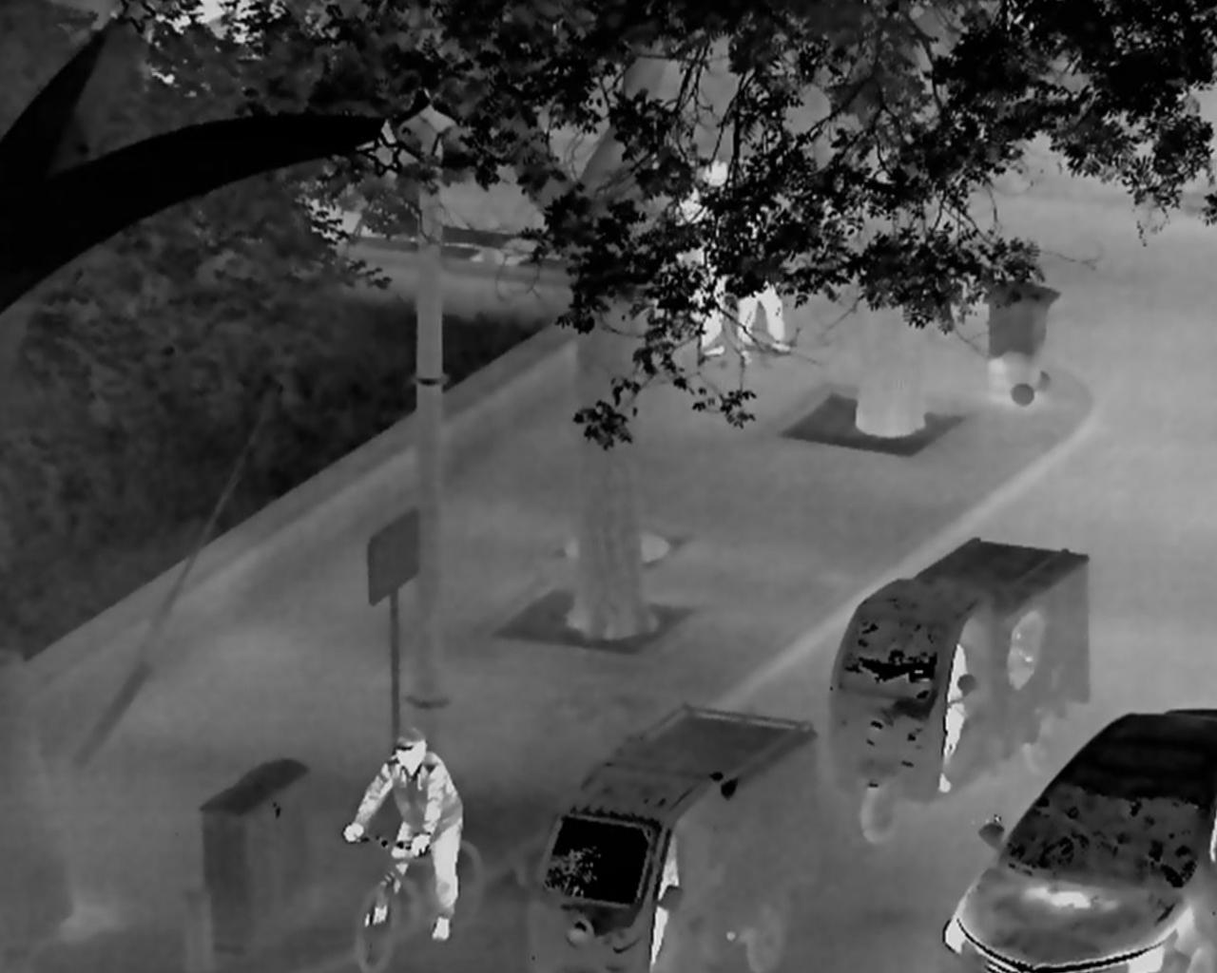person: (339, 725, 465, 942), (724, 183, 793, 367), (670, 160, 726, 357), (937, 643, 970, 793), (648, 830, 680, 973)
